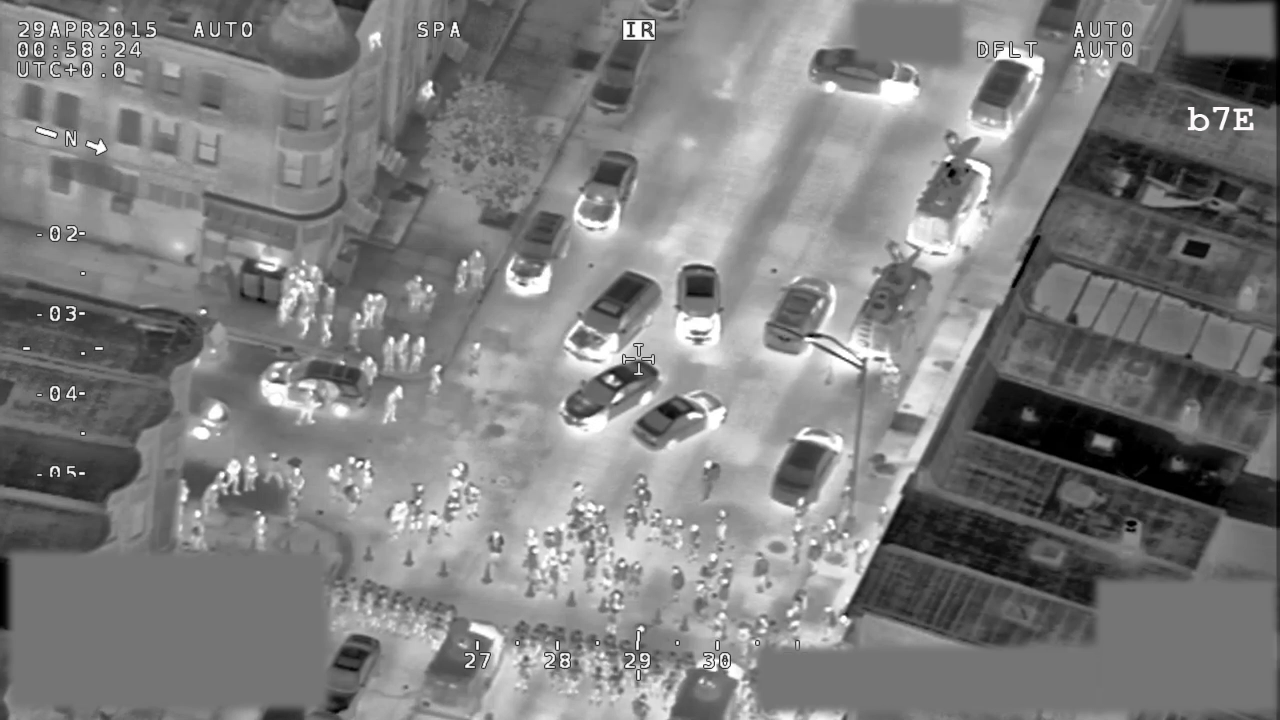vehicle: (903, 131, 997, 257), (846, 240, 937, 361), (561, 268, 665, 366), (418, 620, 509, 719), (257, 352, 379, 425), (556, 356, 665, 437), (807, 41, 925, 106), (582, 29, 656, 125), (968, 48, 1046, 138), (768, 426, 847, 511), (313, 630, 387, 720), (629, 387, 729, 453), (762, 274, 838, 357), (571, 149, 640, 233), (506, 209, 572, 296), (677, 261, 724, 349)
